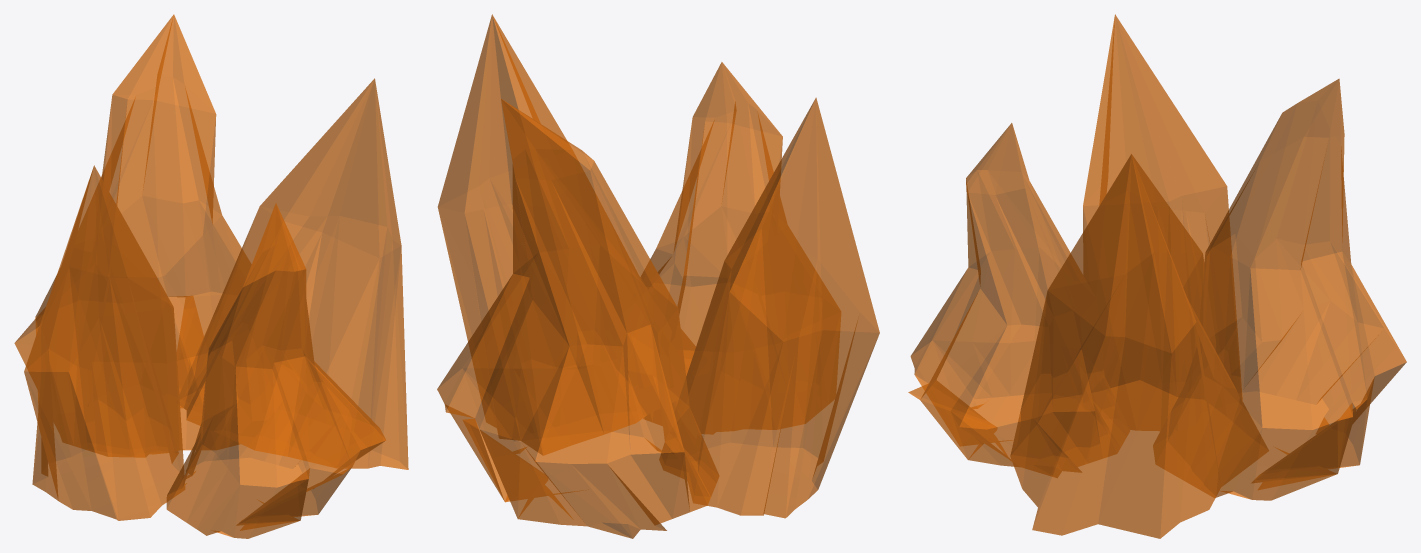
The model's file is fireOuter.dae.
3 views of the same model, side by side, from view 1: azimuth 30°, elevation 25°; view 2: azimuth 150°, elevation 25°; view 3: azimuth 270°, elevation 25° (orthographic). The views are drawn at different scales.
Visible parts, largest first — view 1: dFlame1, dFlame3, dFlame4, dFlame2; view 2: dFlame1, dFlame3, dFlame4, dFlame2; view 3: dFlame3, dFlame1, dFlame2, dFlame4.
Boxes of the visible parts, x1,y1,x2,y2 form: dFlame1: (14,14,250,457); dFlame3: (179,78,408,469); dFlame4: (24,165,184,520); dFlame2: (166,203,385,538); dFlame1: (437,99,719,538); dFlame3: (437,14,695,455); dFlame4: (659,97,879,518); dFlame2: (641,62,840,433); dFlame3: (1010,154,1268,538); dFlame1: (1153,78,1406,500); dFlame2: (908,123,1129,477); dFlame4: (1083,14,1242,430).
Size of the model in its own units: 1.33 by 1.39 by 1.27.
